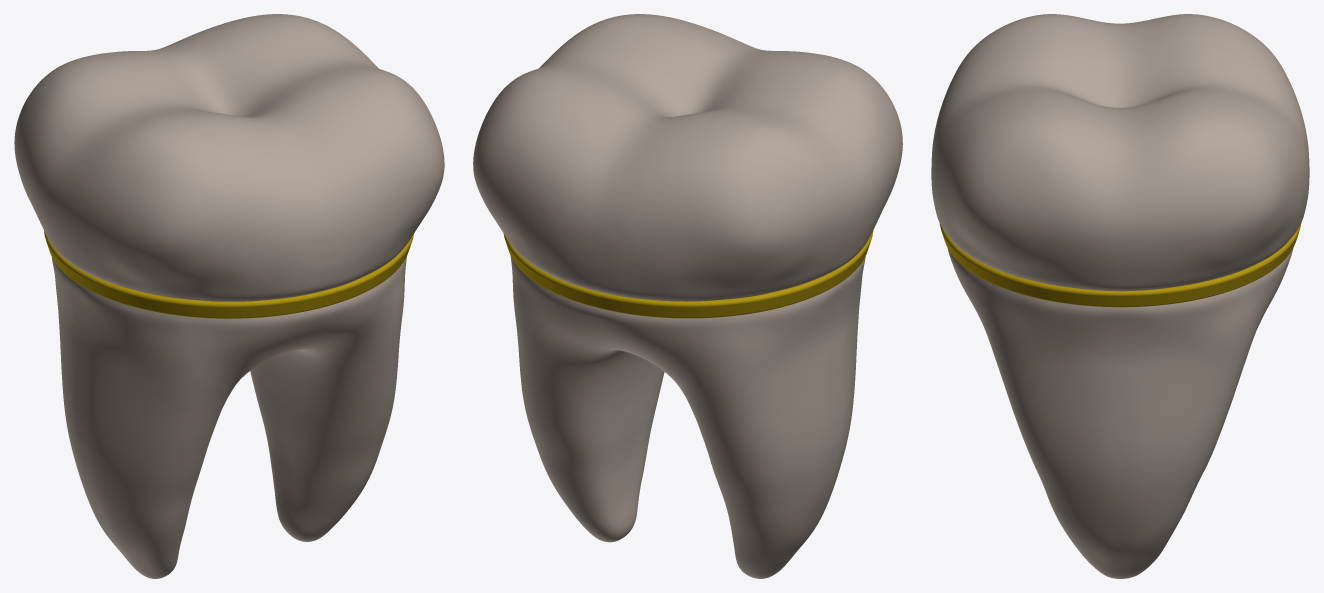
The model's file is tooth2.glb.
3 renders of one model, left to right at view 1: azimuth 30°, elevation 25°; view 2: azimuth 150°, elevation 25°; view 3: azimuth 270°, elevation 25°, orthographic. The views are drawn at different scales.
Parts seen in each view (by area): view 1: Remesh.001, Sweep_1; view 2: Remesh.001, Sweep_1; view 3: Remesh.001, Sweep_1.
Part boxes in pixels (<box>): Remesh.001: <box>14,14,444,578</box>; Sweep_1: <box>44,231,413,318</box>; Remesh.001: <box>473,14,902,578</box>; Sweep_1: <box>503,231,873,318</box>; Remesh.001: <box>931,14,1309,578</box>; Sweep_1: <box>939,223,1301,307</box>.
Bounding box in the file's own units: 0.3481 × 0.4577 × 0.3314.
